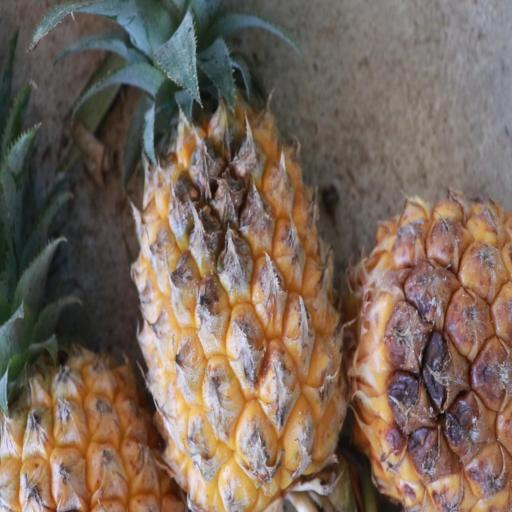Pineapple - v8 v1: (124, 4, 348, 512), (345, 191, 512, 512)
